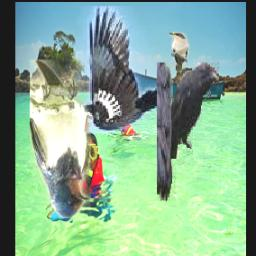Crow: (156, 63, 218, 201)
Cuckoo: (168, 33, 188, 73)
Swallow: (30, 60, 91, 218)
Woodpecker: (63, 7, 172, 135)
